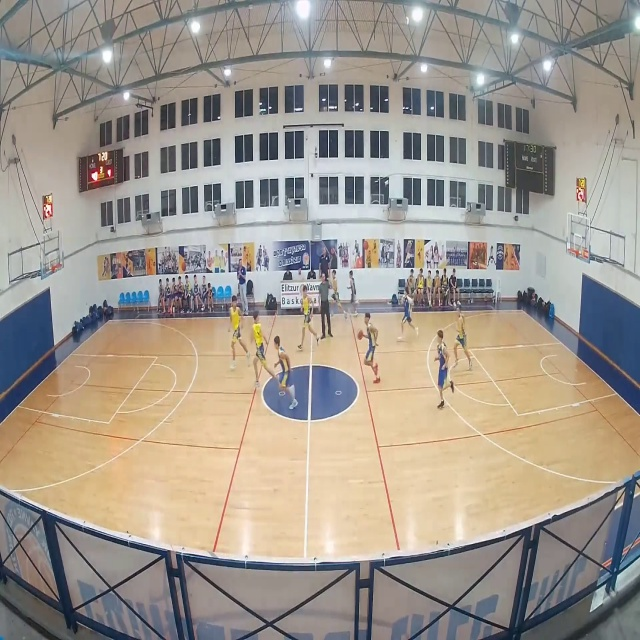Basketball: (357, 330, 364, 340)
